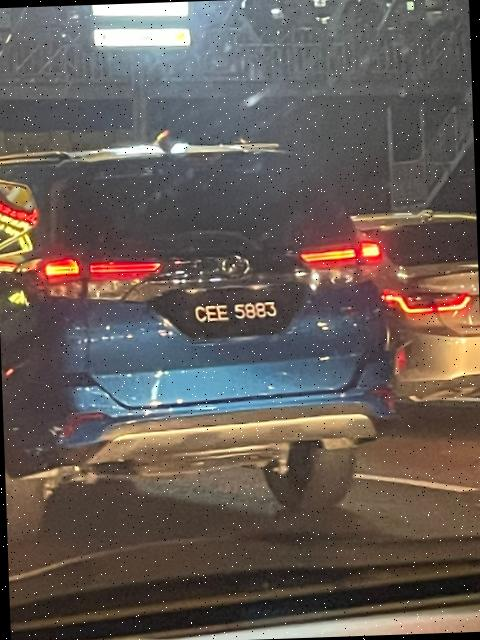License_Plate: (177, 290, 296, 336)
car: (1, 128, 403, 532)
